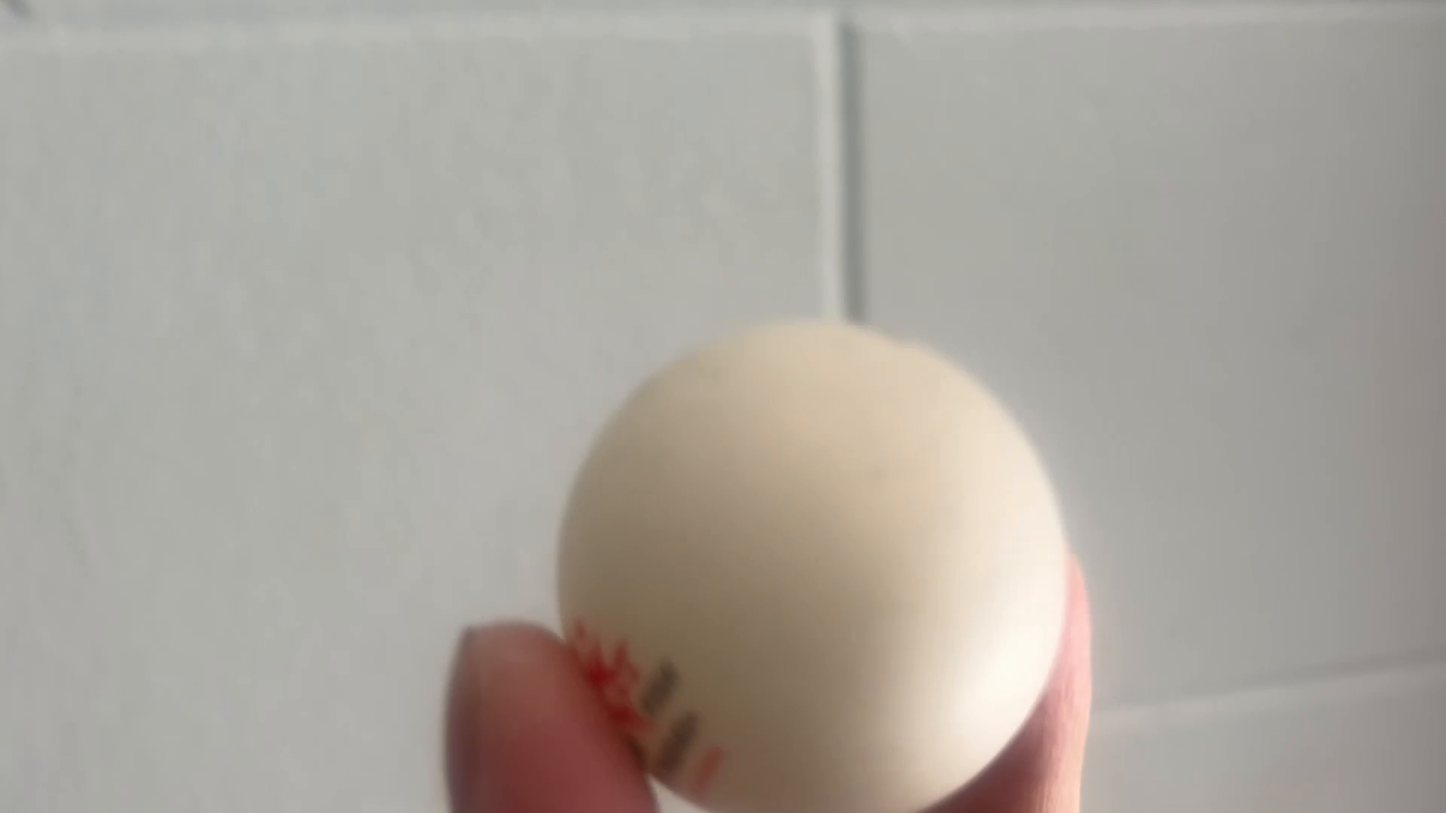Ball: (527, 335, 1130, 813)
